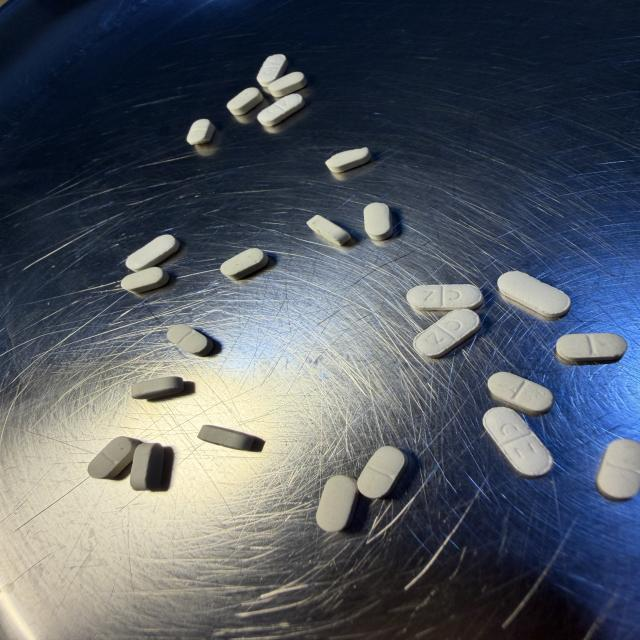pill: (483, 407, 553, 477), (498, 272, 570, 317), (414, 309, 480, 357), (487, 372, 553, 414), (596, 439, 639, 500), (358, 446, 408, 498), (316, 475, 358, 531), (88, 436, 140, 478), (556, 333, 627, 363), (407, 285, 483, 311), (126, 235, 179, 271), (130, 443, 164, 490), (258, 93, 304, 127), (167, 324, 213, 356), (221, 248, 268, 279), (198, 425, 254, 450), (307, 215, 351, 245), (121, 267, 168, 293), (326, 148, 371, 173), (132, 377, 183, 399), (363, 202, 392, 240), (268, 72, 307, 97), (227, 88, 263, 115), (257, 54, 287, 86), (187, 119, 215, 145)
